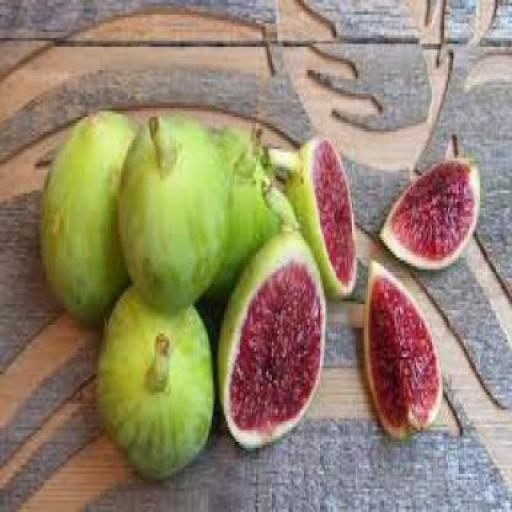biodegradable: (214, 222, 326, 451), (94, 278, 214, 480), (118, 108, 230, 308), (38, 108, 137, 322), (204, 126, 296, 304), (362, 254, 442, 439), (267, 135, 356, 295), (377, 152, 478, 266)
